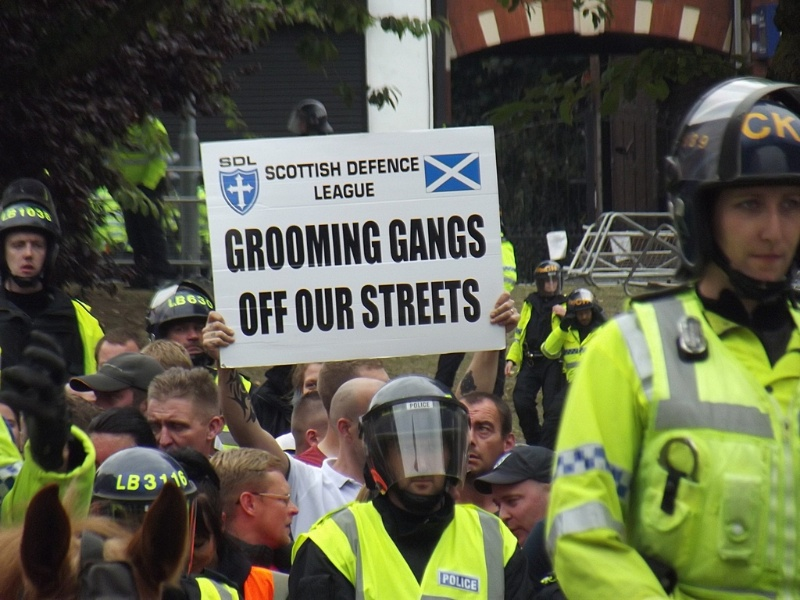helmet: (363, 372, 467, 436), (93, 445, 203, 499), (148, 283, 215, 325), (1, 194, 56, 233), (568, 289, 602, 318), (535, 261, 563, 281)
jacket: (561, 300, 798, 600), (315, 502, 507, 600), (1, 394, 102, 538)
